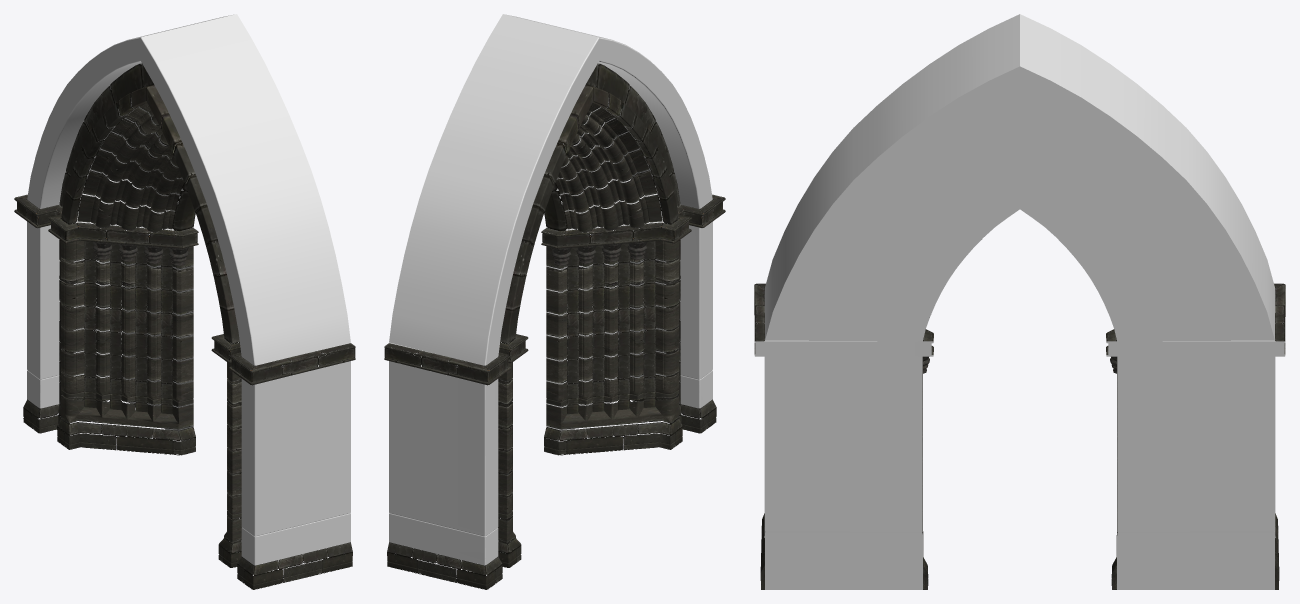
3 views of the same model, side by side, from view 1: azimuth 30°, elevation 25°; view 2: azimuth 150°, elevation 25°; view 3: azimuth 270°, elevation 25° (orthographic). The views are drawn at different scales.
Visible parts, largest first — view 1: SM_Greathall_Doorway_01_LOD0; view 2: SM_Greathall_Doorway_01_LOD0; view 3: SM_Greathall_Doorway_01_LOD0.
Part boxes in pixels (<box>): SM_Greathall_Doorway_01_LOD0: <box>14,14,355,589</box>; SM_Greathall_Doorway_01_LOD0: <box>384,14,725,589</box>; SM_Greathall_Doorway_01_LOD0: <box>754,14,1285,589</box>.
Size of the model in its own units: 2.71 by 11.59 by 10.66.
4 materials, 3 textured.
